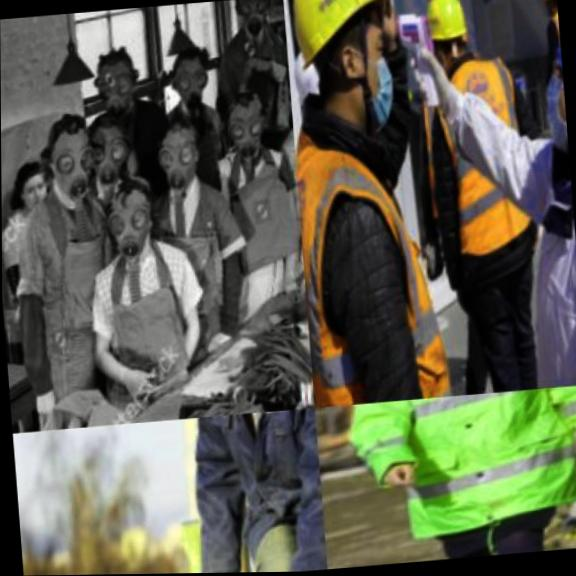safety_vest: (290, 65, 507, 407), (324, 384, 576, 565), (417, 52, 566, 266), (174, 408, 325, 568), (547, 10, 562, 62)
